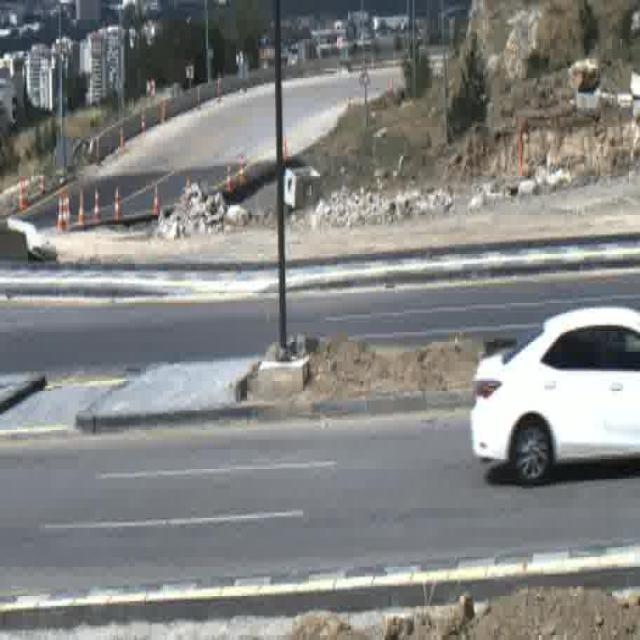Car: (468, 307, 640, 480)
